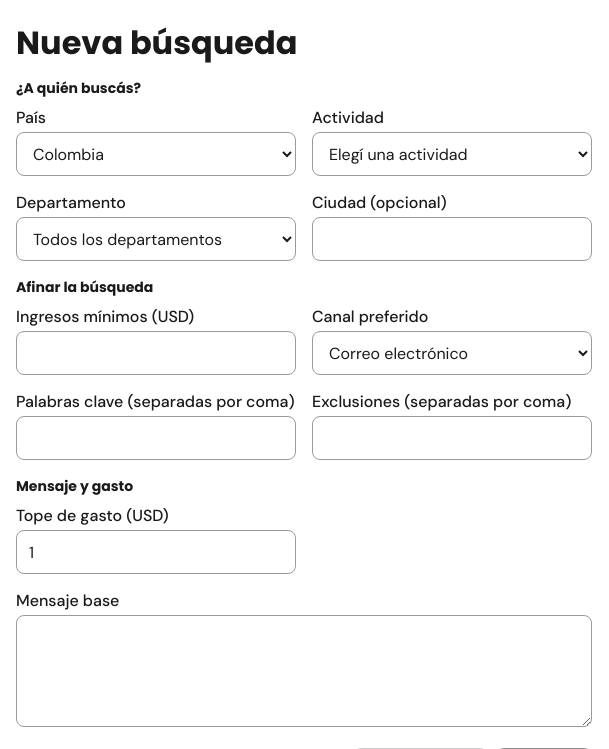
it: buscar_habilitado_si_costo_maximo_esta_dentro_del_tope
This screenshot has width=609, height=749.
Select "Elaboración de productos de panadería" in the dropdown labelled "Actividad": (452, 154) 312,132 -> 592,176
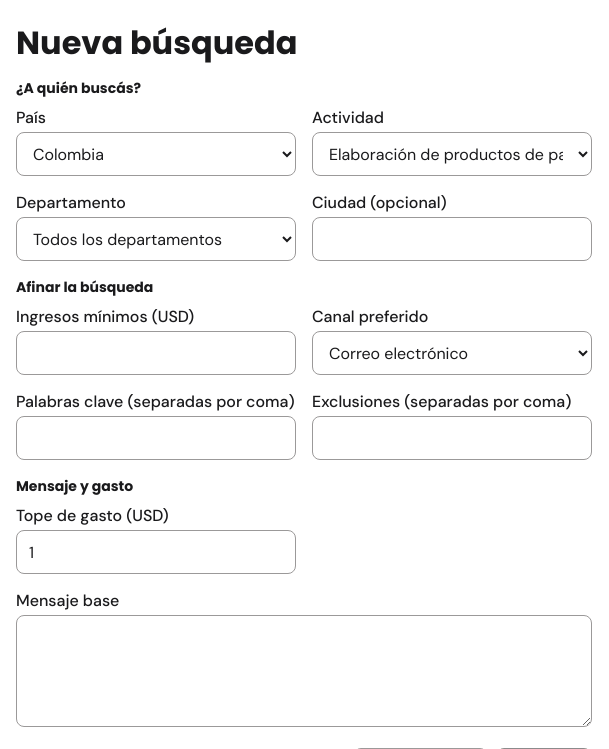
In the field labelled "Palabras clave (separadas por coma)": (156, 438) 16,416 -> 296,460, type "pan, harina"
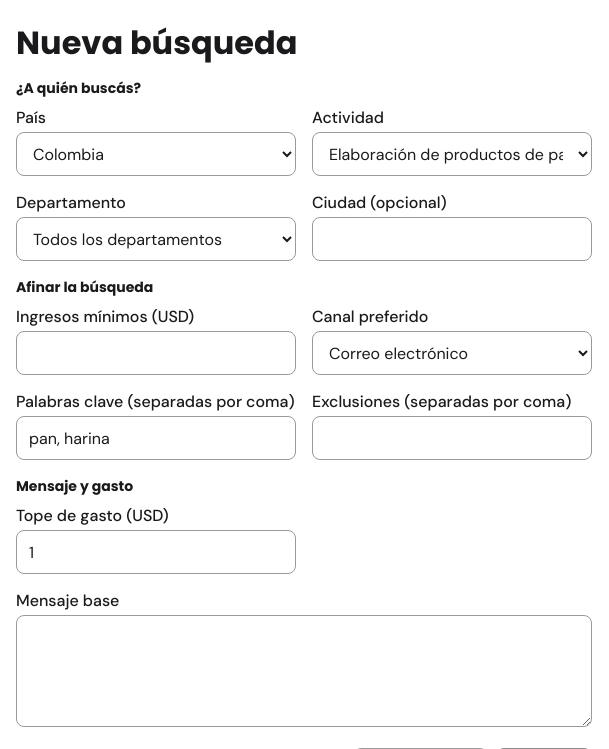
Replace the text in the number field labelled "Tope de gasto (USD)" with "5": (156, 552) 16,530 -> 296,574
(page scrolled)
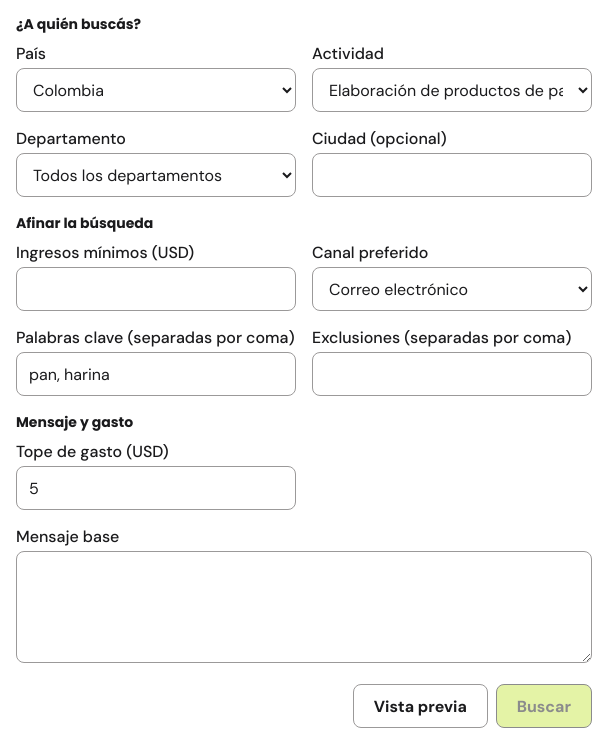
Click the button "Vista previa": (420, 706) 353,684 -> 488,728
(page scrolled)
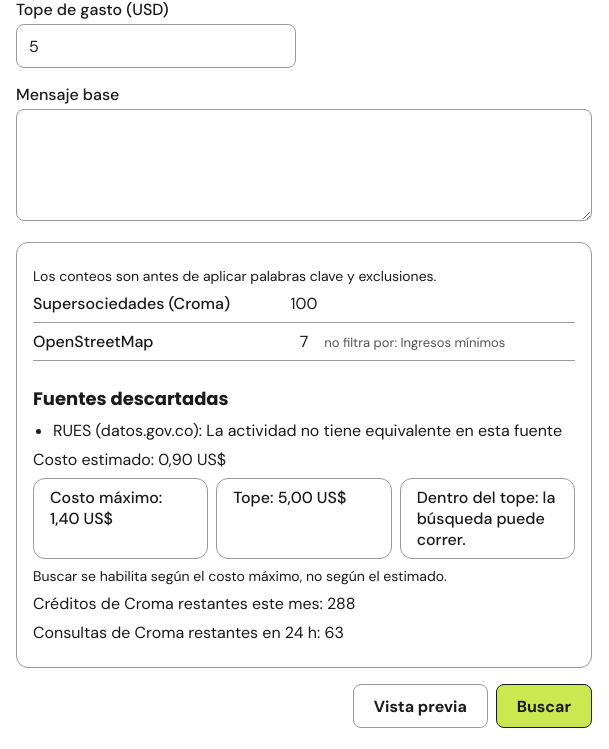
Now the button "Buscar" is enabled, box 496,684 -> 592,728
